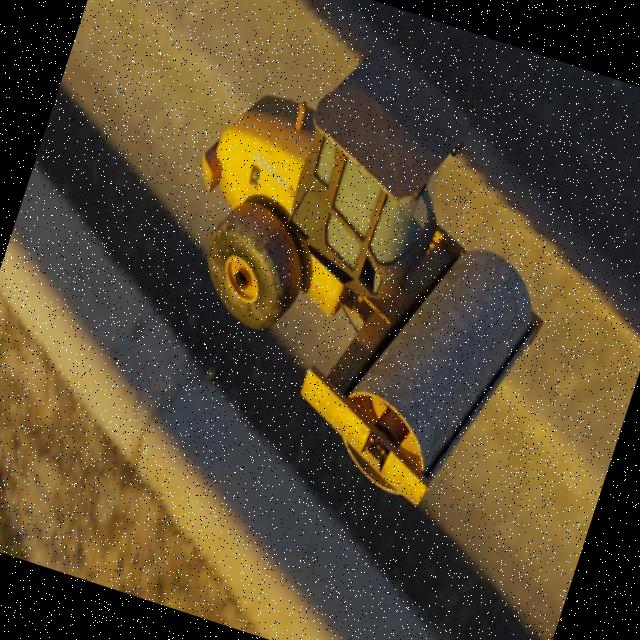Roller: (120, 2, 610, 524)
